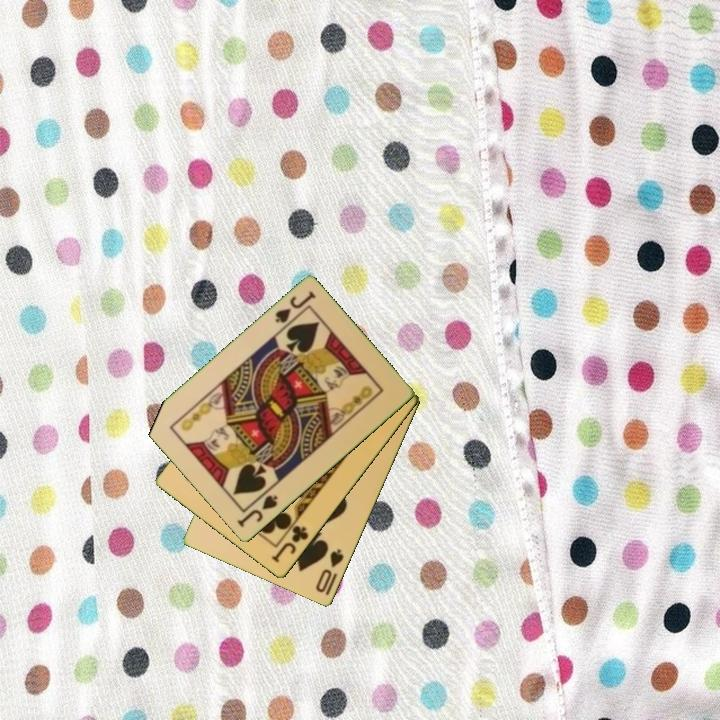10s: (312, 546, 347, 596)
Jc: (268, 522, 312, 566)
Js: (233, 492, 281, 531), (271, 288, 319, 326)
